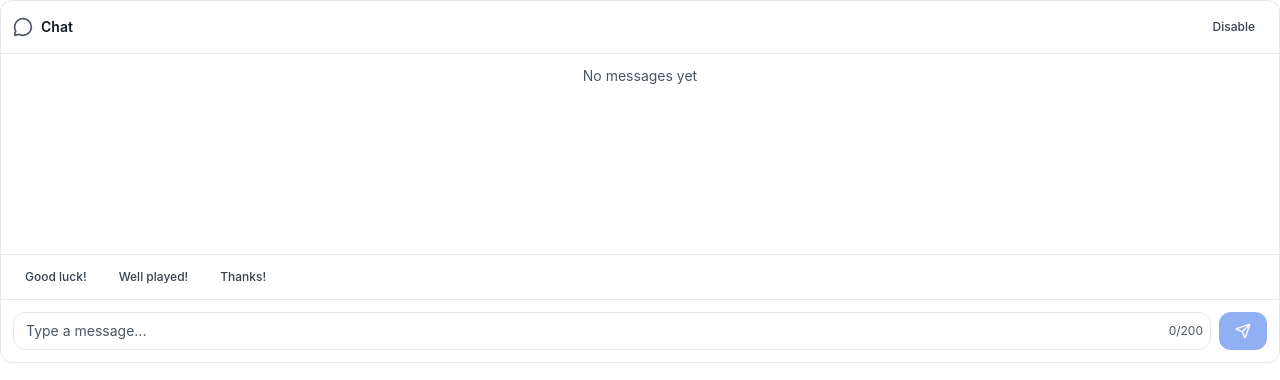
GameChat › Sending Messages › should display character count
The width and height of the screenshot is (1280, 380).
Type "Hello" into the field with placeholder "Type a message..." at (612, 331), box [13, 312, 1211, 350]
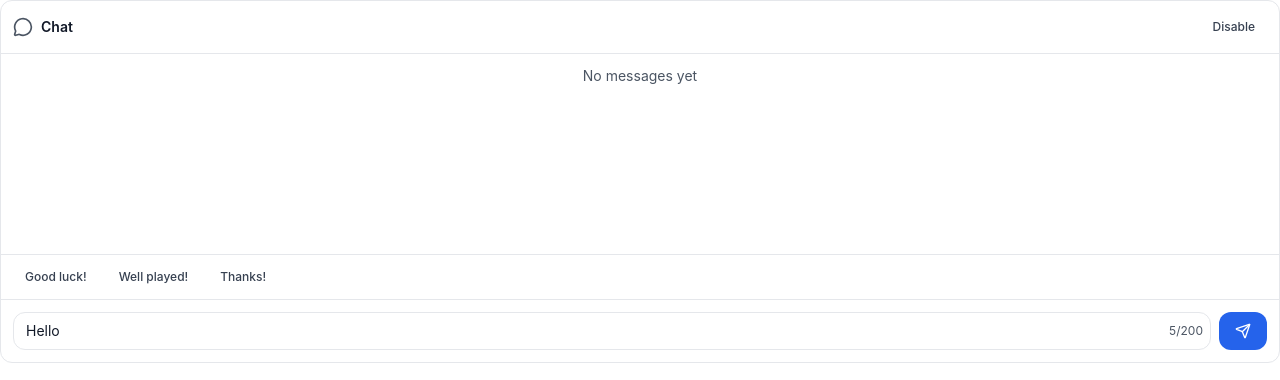
Expected: the text "5/200" is shown, [1169, 323, 1203, 339]
